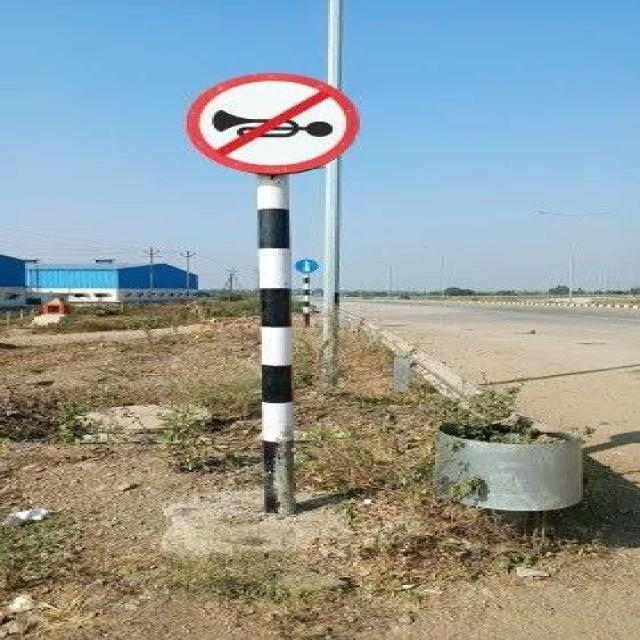No_Horn: (186, 72, 360, 180)
